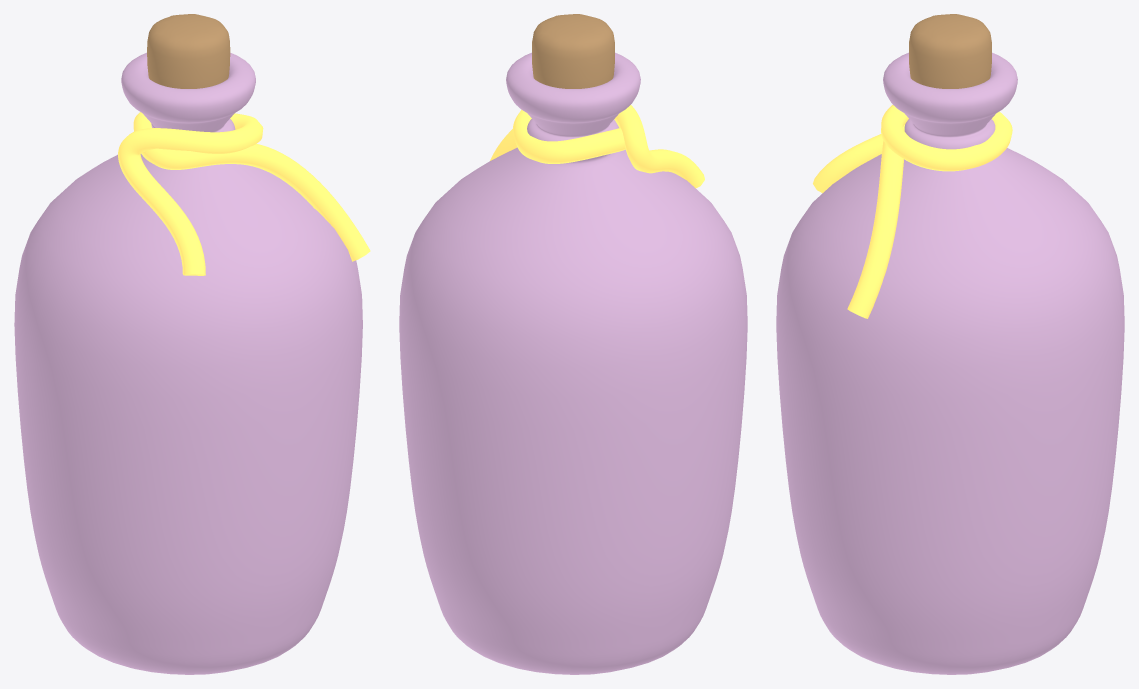
The model's file is space-bottle.glb.
3 renders of one model, left to right at view 1: azimuth 30°, elevation 25°; view 2: azimuth 150°, elevation 25°; view 3: azimuth 270°, elevation 25°, orthographic.
Visible parts, largest first — view 1: Cylinder.002, NurbsPath, Cylinder.003; view 2: Cylinder.002, NurbsPath, Cylinder.003; view 3: Cylinder.002, NurbsPath, Cylinder.003.
Boxes of the visible parts, x1,y1,x2,y2 form: Cylinder.002: [14, 52, 362, 674]; NurbsPath: [118, 112, 370, 275]; Cylinder.003: [147, 14, 230, 88]; Cylinder.002: [399, 52, 747, 674]; NurbsPath: [490, 105, 704, 188]; Cylinder.003: [532, 14, 614, 88]; Cylinder.002: [776, 52, 1124, 674]; NurbsPath: [813, 105, 1012, 318]; Cylinder.003: [909, 14, 991, 88].
Size of the model in its own units: 3.03 by 5.89 by 3.03.
